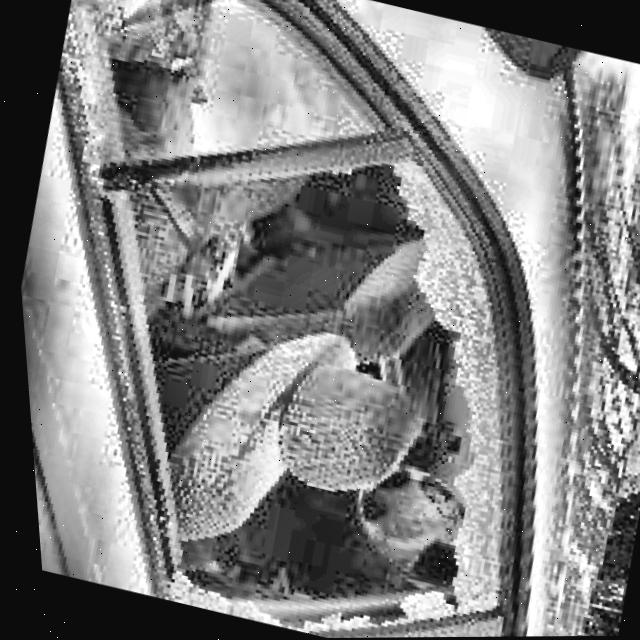glass_shatter: (159, 361, 509, 639), (249, 154, 457, 402)
